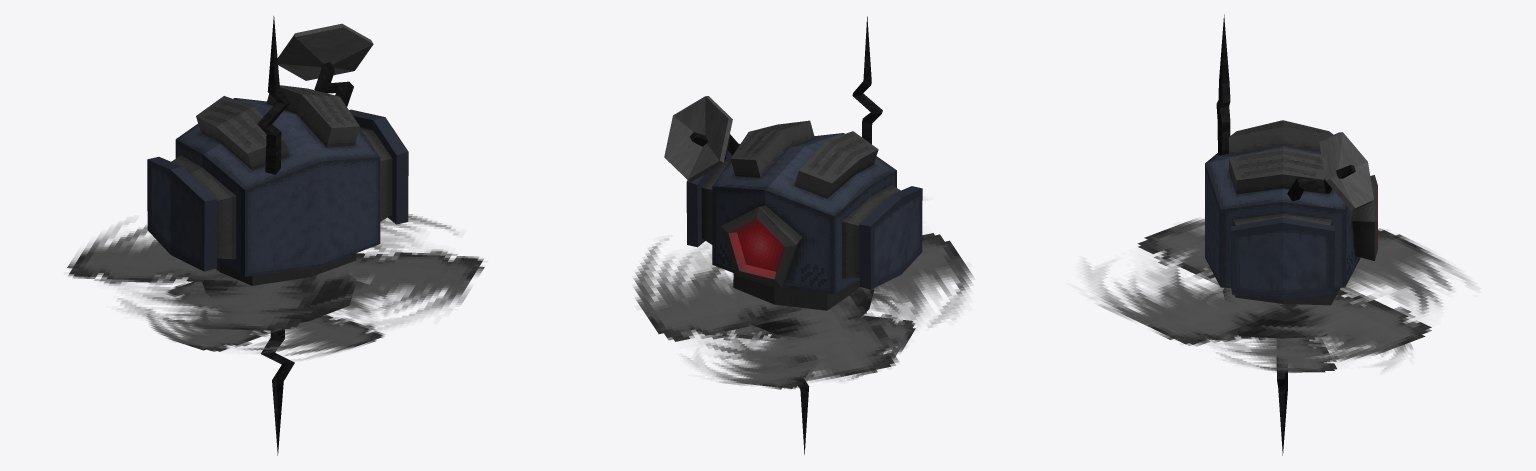
The model's file is shredder.glb.
3 renders of one model, left to right at view 1: azimuth 30°, elevation 25°; view 2: azimuth 150°, elevation 25°; view 3: azimuth 270°, elevation 25°, orthographic. The views are drawn at different scales.
Visible parts, largest first — view 1: Cube, Circle.004, Circle.003, Circle.006; view 2: Cube, Circle.004, Circle.001, Circle.003, Circle.006; view 3: Circle.004, Cube, Circle.003, Circle.001, Circle.006.
Boxes of the visible parts, x1,y1,x2,y2 form: Cube: [147, 85, 408, 455]; Circle.004: [67, 214, 484, 360]; Circle.003: [277, 23, 373, 106]; Circle.006: [257, 16, 290, 174]; Cube: [686, 120, 922, 454]; Circle.004: [633, 233, 973, 389]; Circle.001: [720, 205, 802, 287]; Circle.003: [664, 96, 739, 182]; Circle.006: [852, 16, 882, 144]; Circle.004: [1085, 218, 1472, 372]; Cube: [1205, 120, 1360, 455]; Circle.003: [1287, 132, 1373, 211]; Circle.001: [1352, 175, 1377, 260]; Circle.006: [1216, 14, 1230, 155].
Bounding box in the file's own units: 7.83 × 7.87 × 7.7.
Materials: 2 (2 with a texture image).
